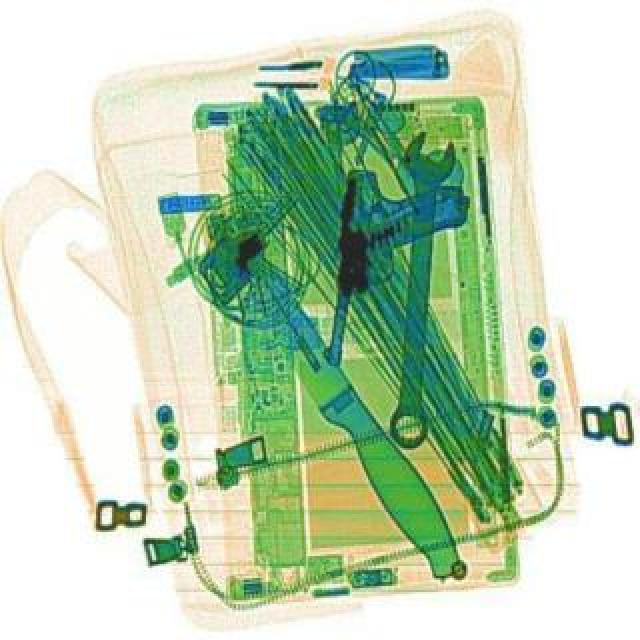gun: (316, 166, 472, 374)
knife: (230, 240, 474, 584)
scissors: (380, 126, 458, 446)
